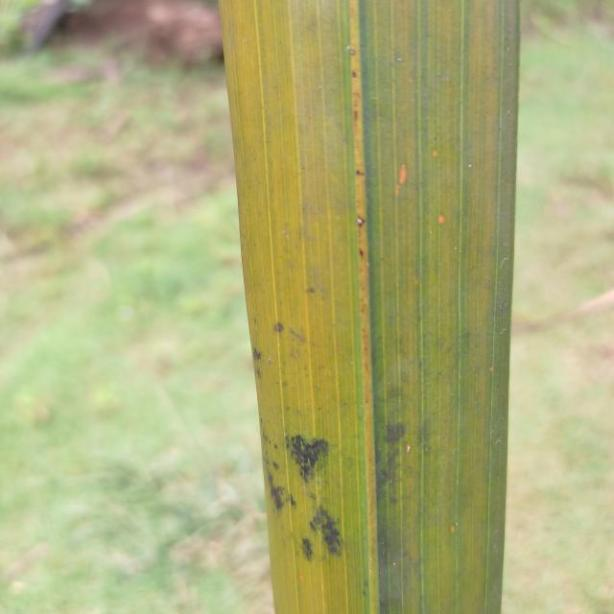Megnesium: (219, 0, 518, 614)
